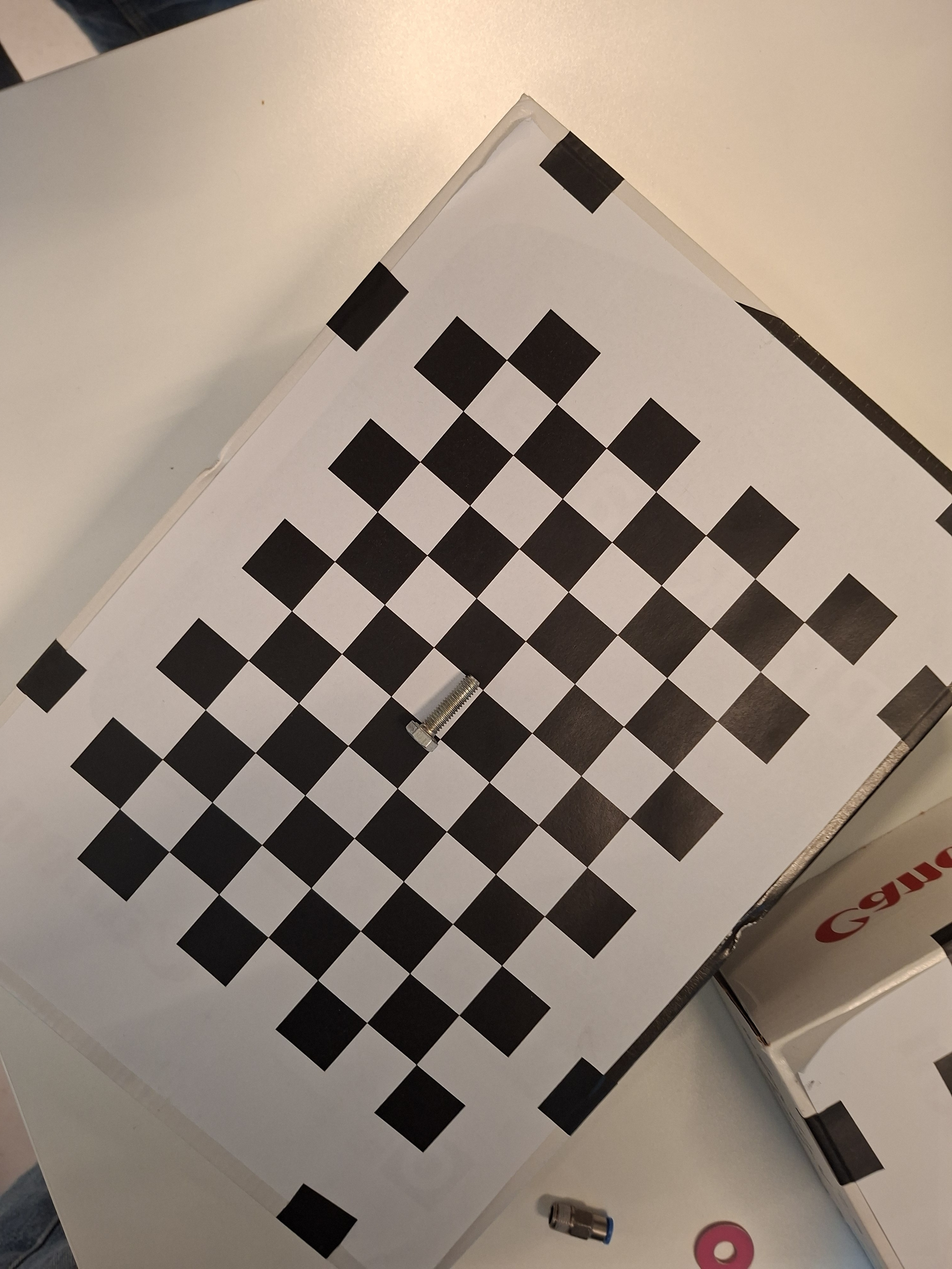hex_bolt: (400, 661, 494, 762)
